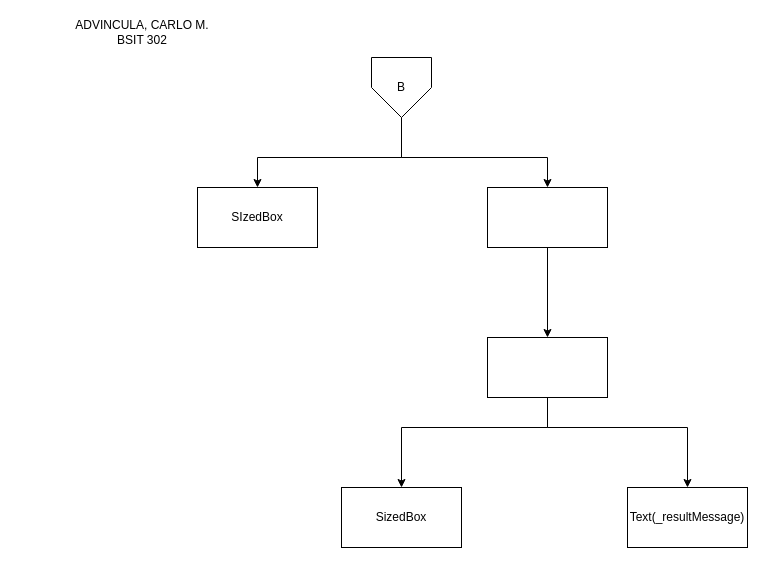
This 765x565 diagram has some shape labels left out. Here are the shapes that lost their labels. From the top down, the centre of each, then its label:
pixel 547 217: ElevatedButton
pixel 547 367: Text 'Convert'
